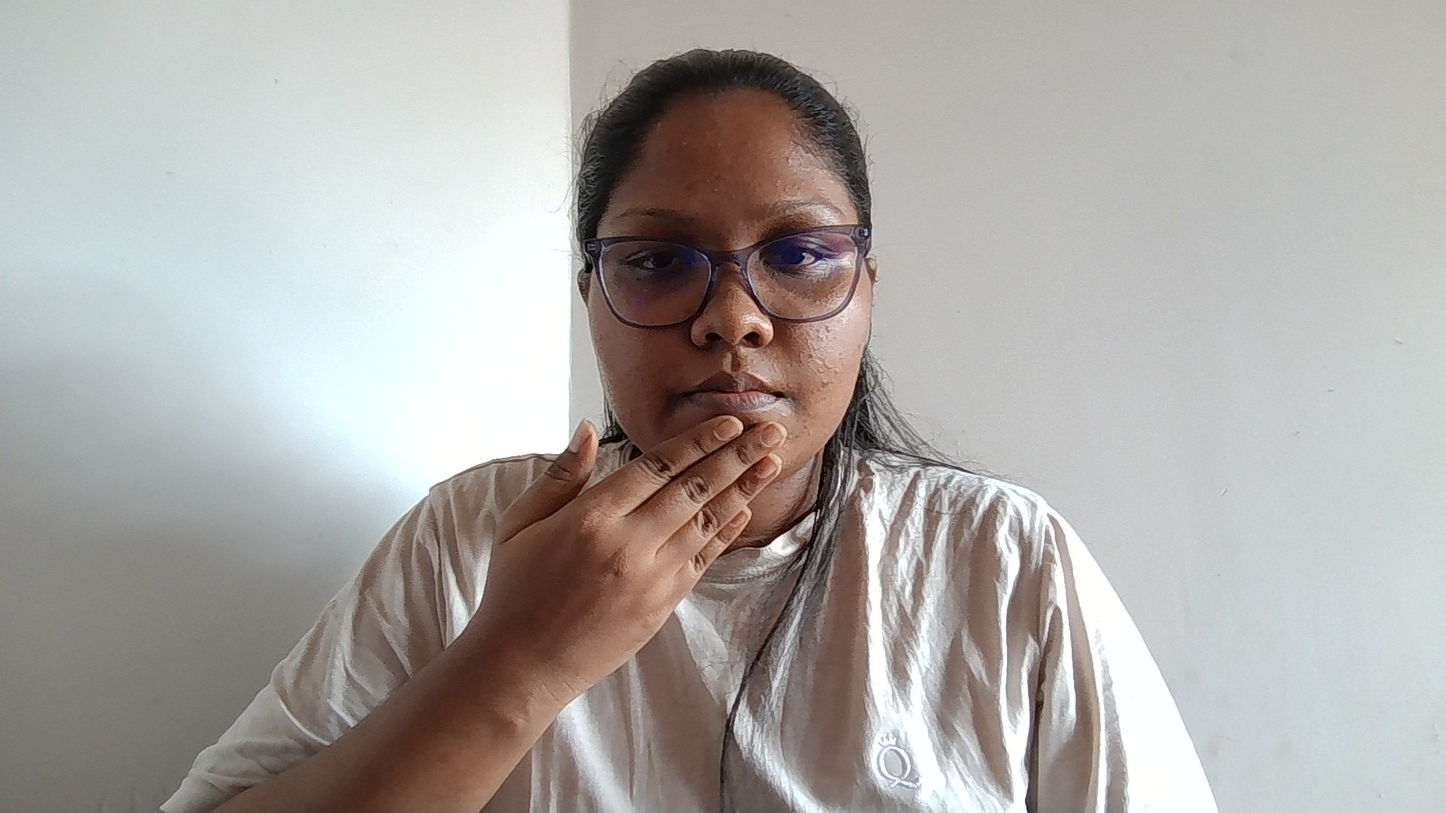Thank You: (424, 330, 822, 762)
